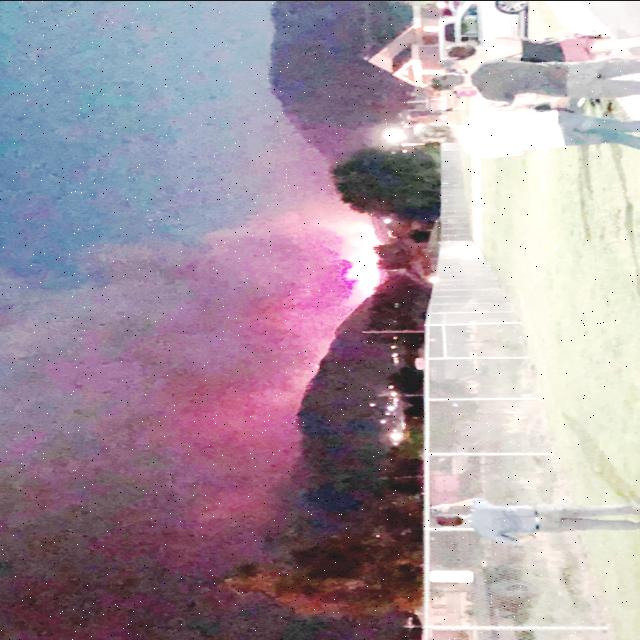api: (344, 220, 390, 297)
asap: (1, 207, 336, 640)
